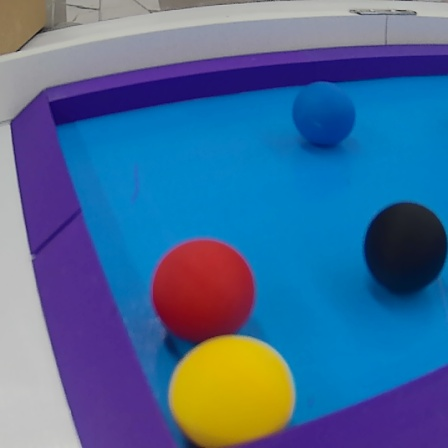black: (360, 198, 448, 298)
blue: (292, 80, 357, 149)
blue_aim: (9, 35, 448, 448)
red: (153, 236, 257, 339)
yellow: (165, 325, 295, 448)
